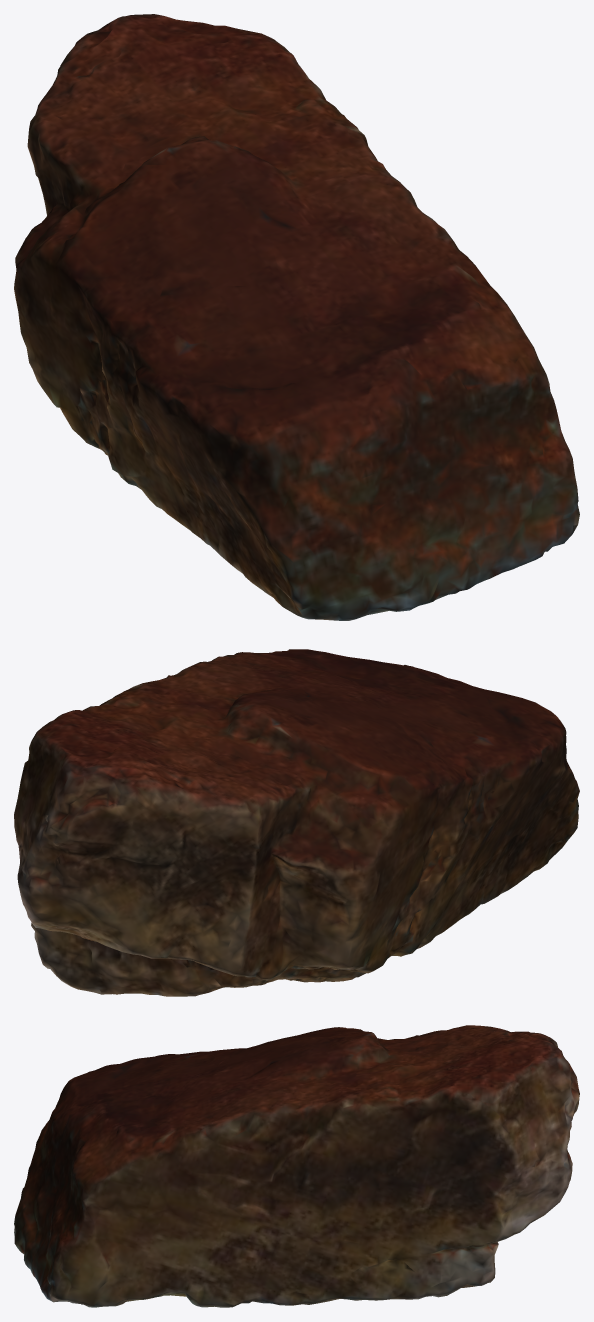
The model's file is rock_07.gltf.
The picture shows the model from 3 angles, top to bottom: view 1: azimuth 30°, elevation 25°; view 2: azimuth 150°, elevation 25°; view 3: azimuth 270°, elevation 25°; orthographic projection. The views are drawn at different scales.
Parts seen in each view (by area): view 1: rock_07; view 2: rock_07; view 3: rock_07.
Part boxes in pixels (x1,y1,x2,y2): rock_07: [14, 14, 579, 620]; rock_07: [14, 649, 579, 996]; rock_07: [14, 1025, 579, 1307].
Size of the model in its own units: 0.1689 by 0.1437 by 0.3203.
1 material, 1 textured.
